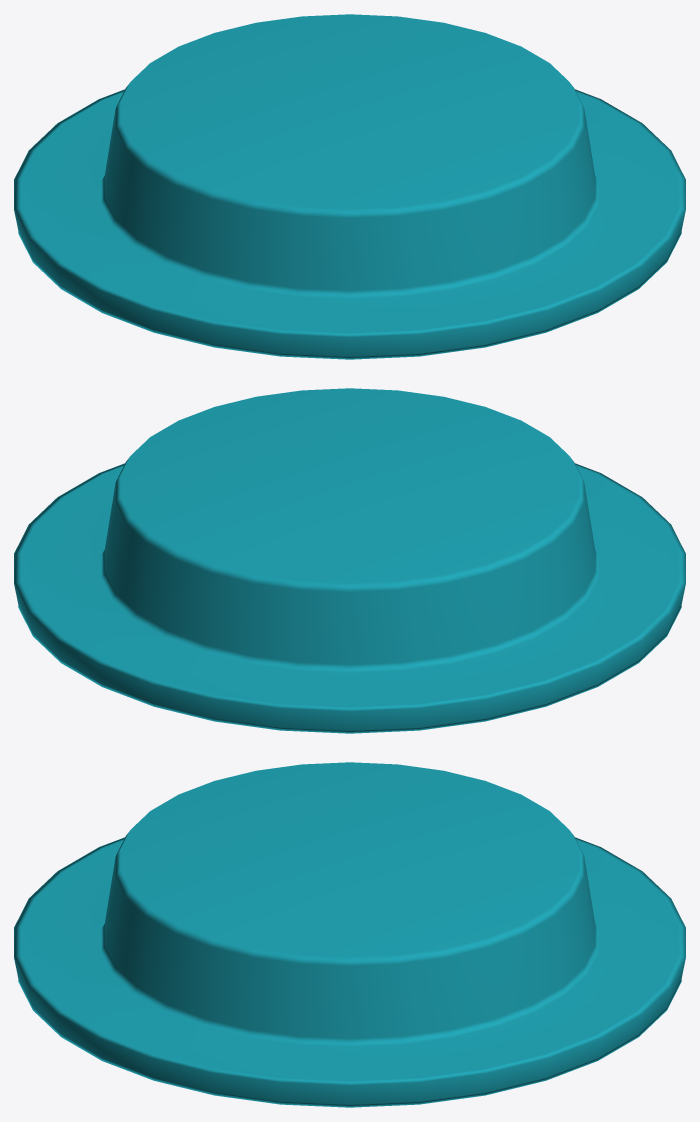
File: Bumper_B.fbx
3 views of the same model, one above another, from view 1: azimuth 30°, elevation 25°; view 2: azimuth 150°, elevation 25°; view 3: azimuth 270°, elevation 25° (orthographic).
Visible parts, largest first — view 1: Bumper_B; view 2: Bumper_B; view 3: Bumper_B.
Part boxes in pixels (x1=…): Bumper_B: x1=14, y1=14, x2=685, y2=359; Bumper_B: x1=14, y1=388, x2=685, y2=733; Bumper_B: x1=14, y1=762, x2=685, y2=1107.
Size of the model in its own units: 6.39 by 1.24 by 6.35.
